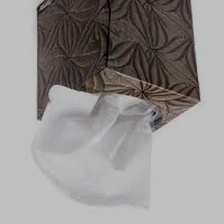tissue: (26, 79, 162, 217)
